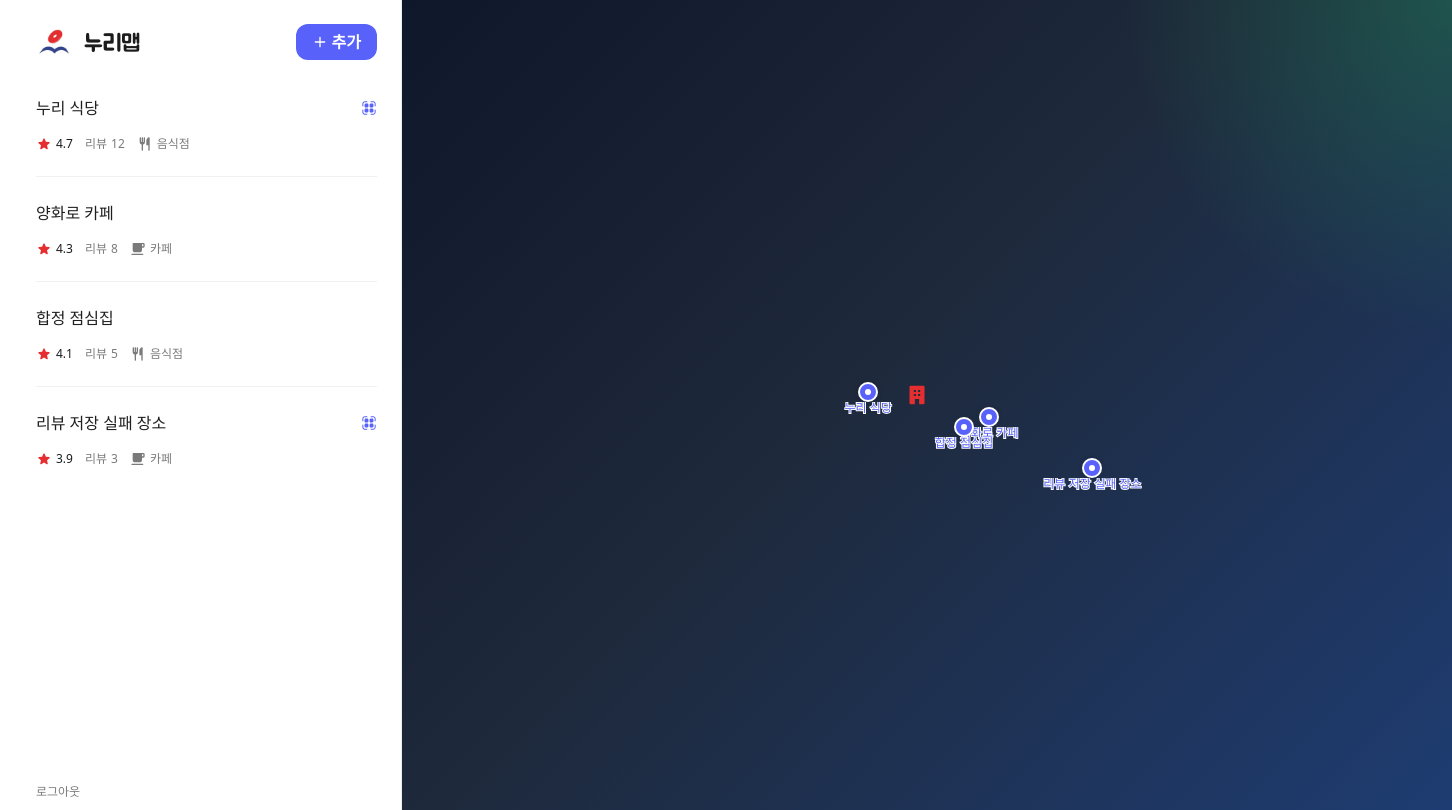
Nurimap place detail › shows the redesigned desktop detail fields and removes legacy modules
The image size is (1452, 810).
What coordinates should you click on to do the following:
click the button with test id "place-list-item-place-restaurant-1"
I would click on:
 (68, 108)
Its box is [12,76,401,172].
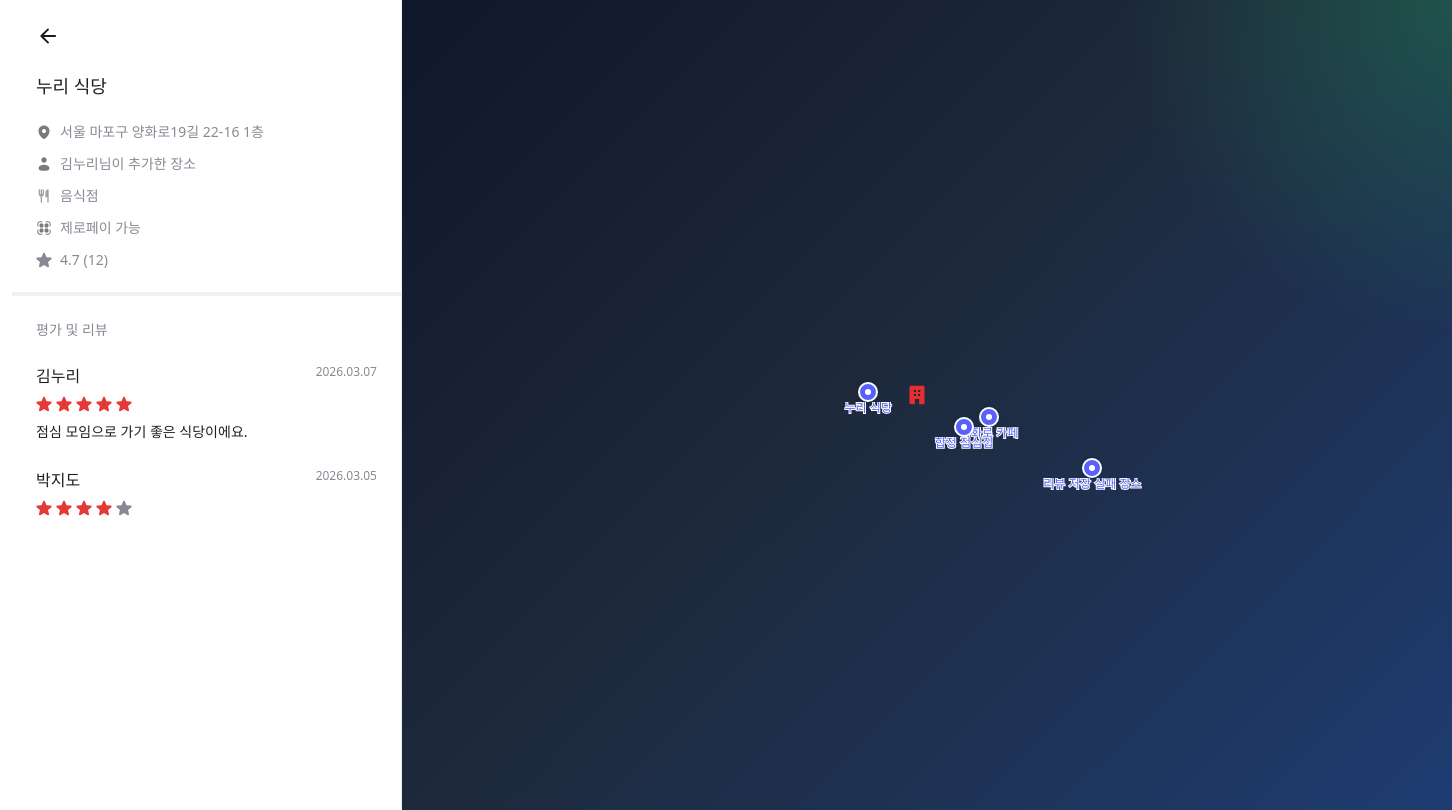
Check: the element with test id "desktop-detail-panel" shows "누리 식당", box [36,74,107,98]
Check: the text with test id "detail-address" reads "서울 마포구 양화로19길 22-16 1층", box [60,122,264,141]
Check: the element with test id "detail-added-by" reads "김누리님이 추가한 장소", box [36,154,196,173]
